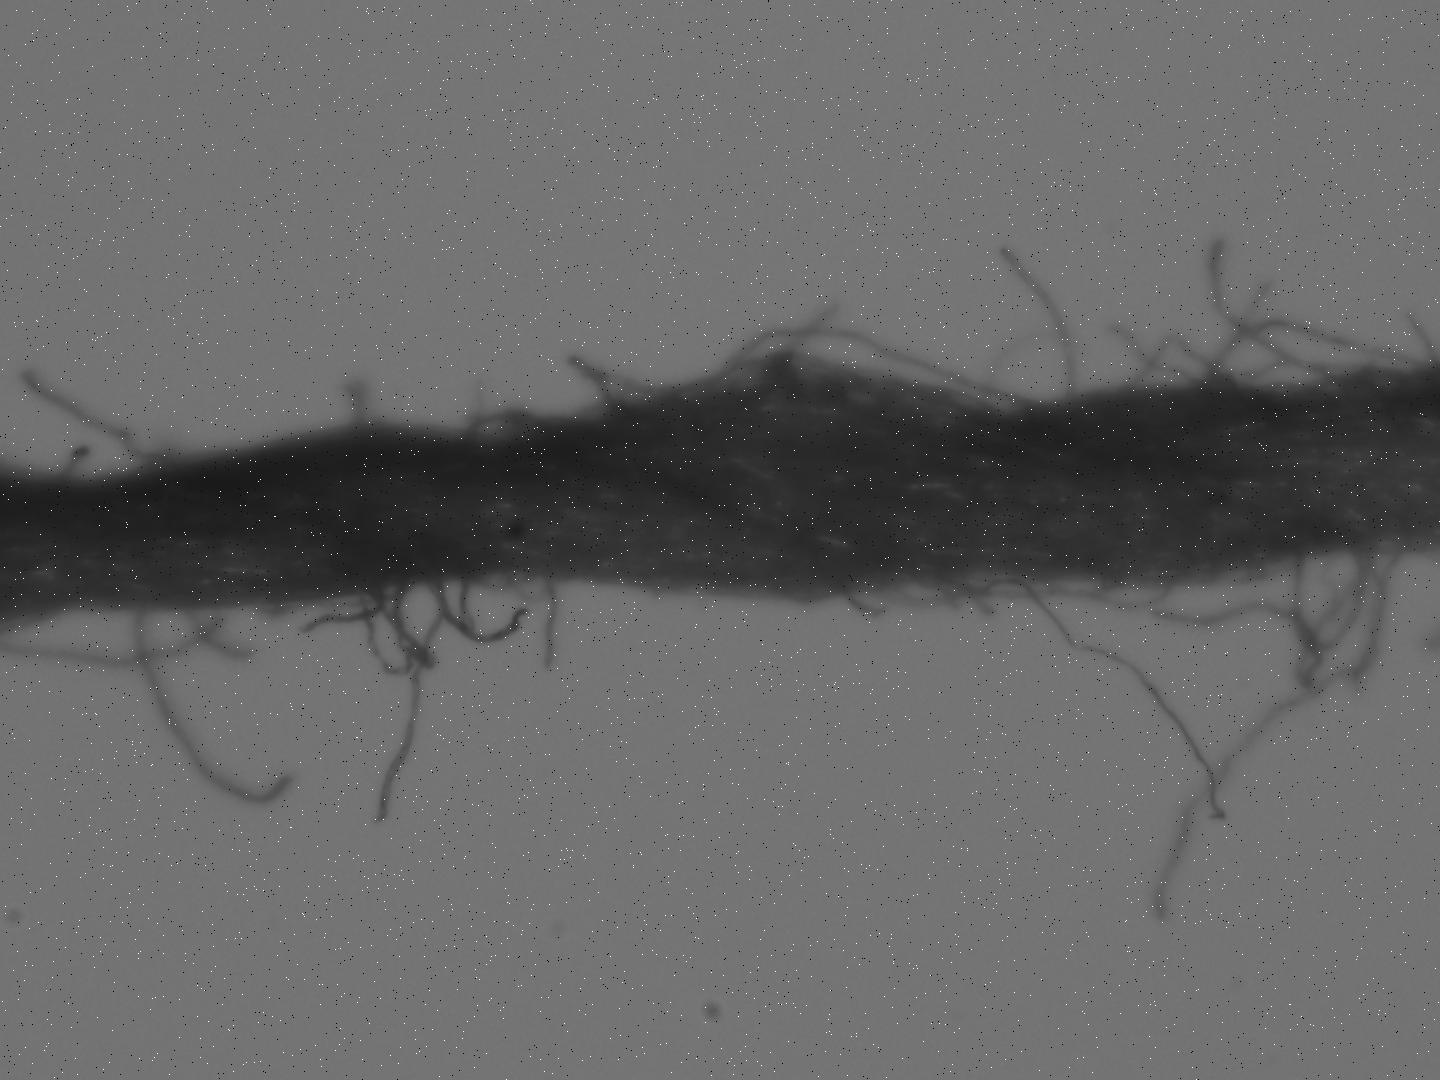loop_fiber: (1035, 546, 1378, 681), (702, 324, 1049, 412), (1191, 318, 1434, 391), (557, 348, 672, 424), (1126, 328, 1245, 398)
protruding_fiber: (1153, 548, 1414, 917), (974, 576, 1231, 822), (128, 609, 294, 804), (1211, 228, 1337, 380), (22, 369, 184, 474), (378, 580, 443, 826), (1007, 248, 1083, 397), (423, 573, 531, 643), (1109, 326, 1214, 387), (541, 573, 560, 677)
